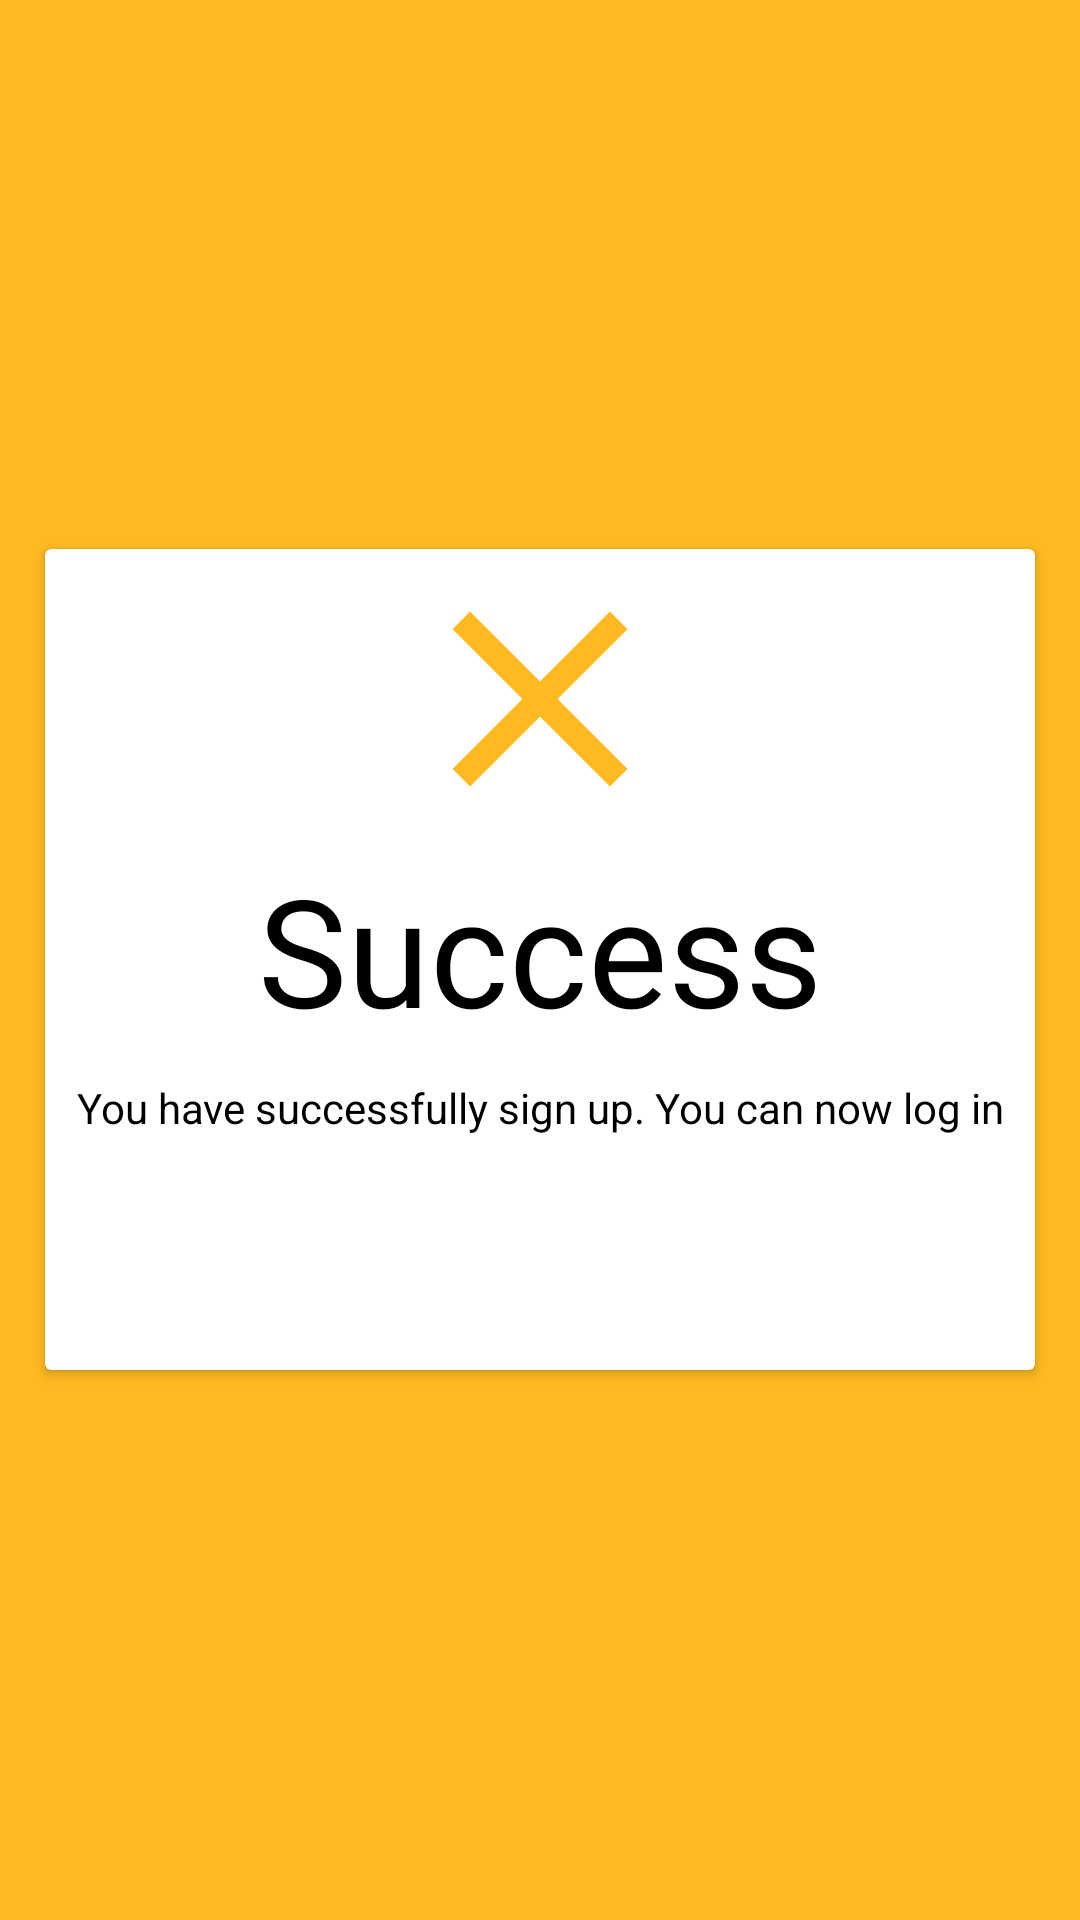

Point at icon controls on the screen. Image size 1080w x 1920h, points as (x=x, y=y).
clear: (x=540, y=699)
